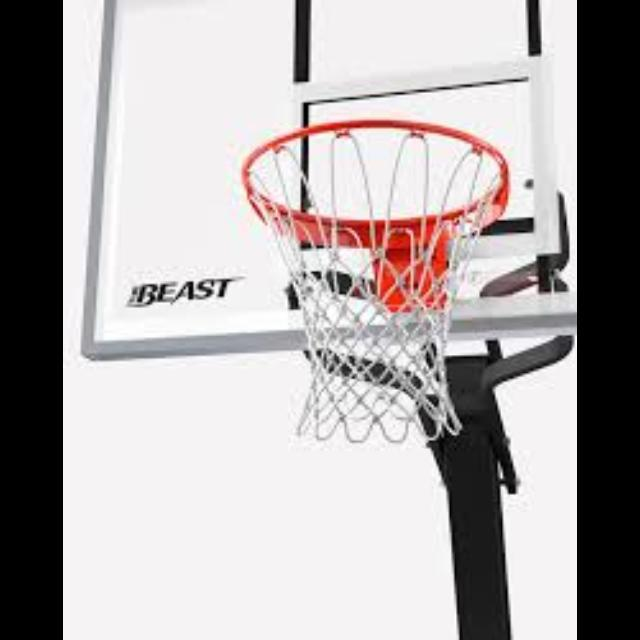rim: (243, 118, 513, 442)
